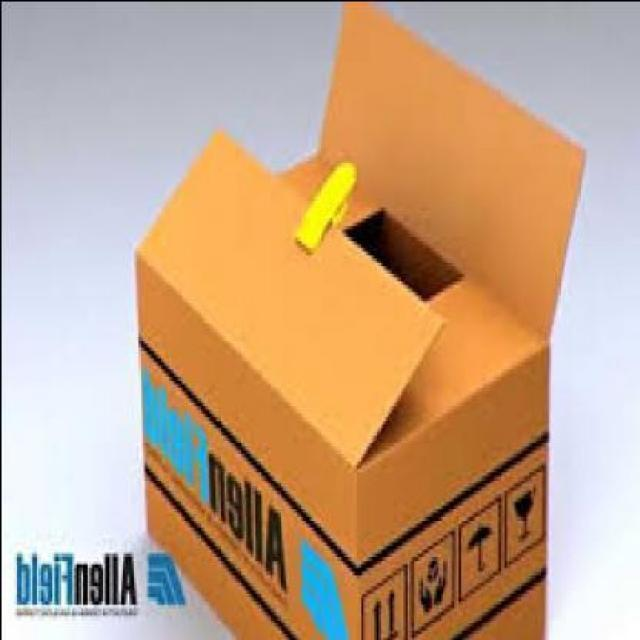box: (139, 0, 588, 637)
